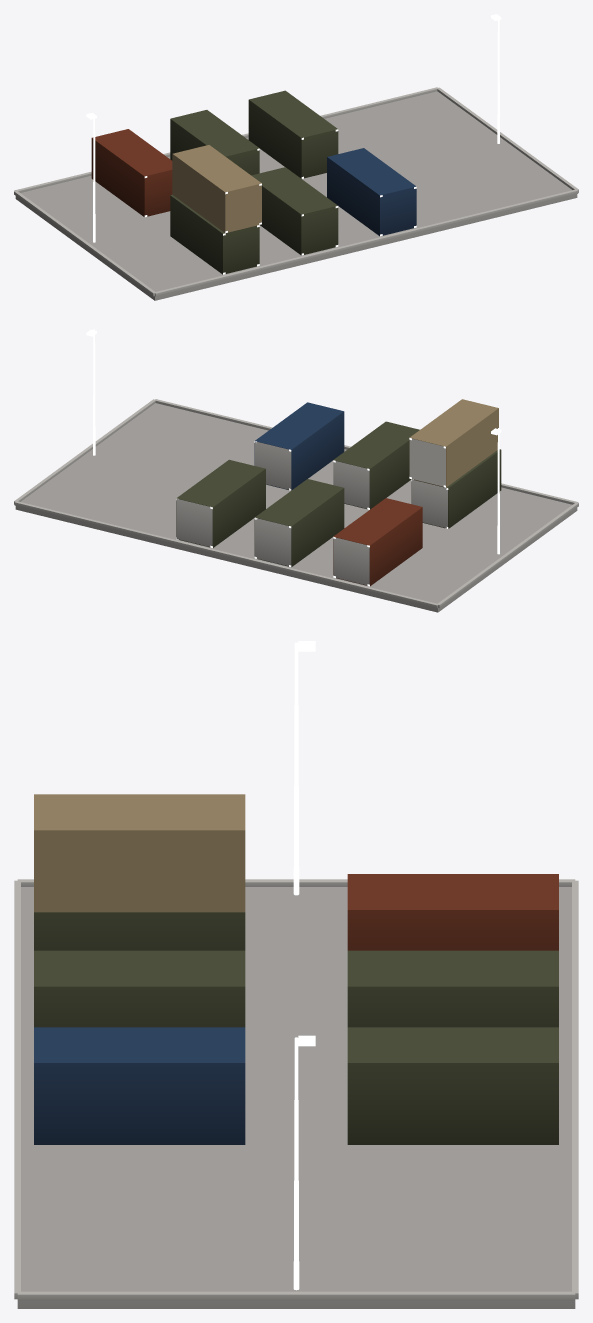
Rendered from container_yard.glb.
3 renders of one model, top to bottom at view 1: azimuth 30°, elevation 25°; view 2: azimuth 150°, elevation 25°; view 3: azimuth 270°, elevation 25°, orthographic. The views are drawn at different scales.
Visible parts, largest first — view 1: container_yard_LOD0; view 2: container_yard_LOD0; view 3: container_yard_LOD0.
Part boxes in pixels (x1,y1,x2,y2): container_yard_LOD0: (14,14,578,300); container_yard_LOD0: (14,329,578,612); container_yard_LOD0: (14,641,578,1308).
Size of what is drawn, in the model's own units: 28.2 by 8.3 by 16.2.
